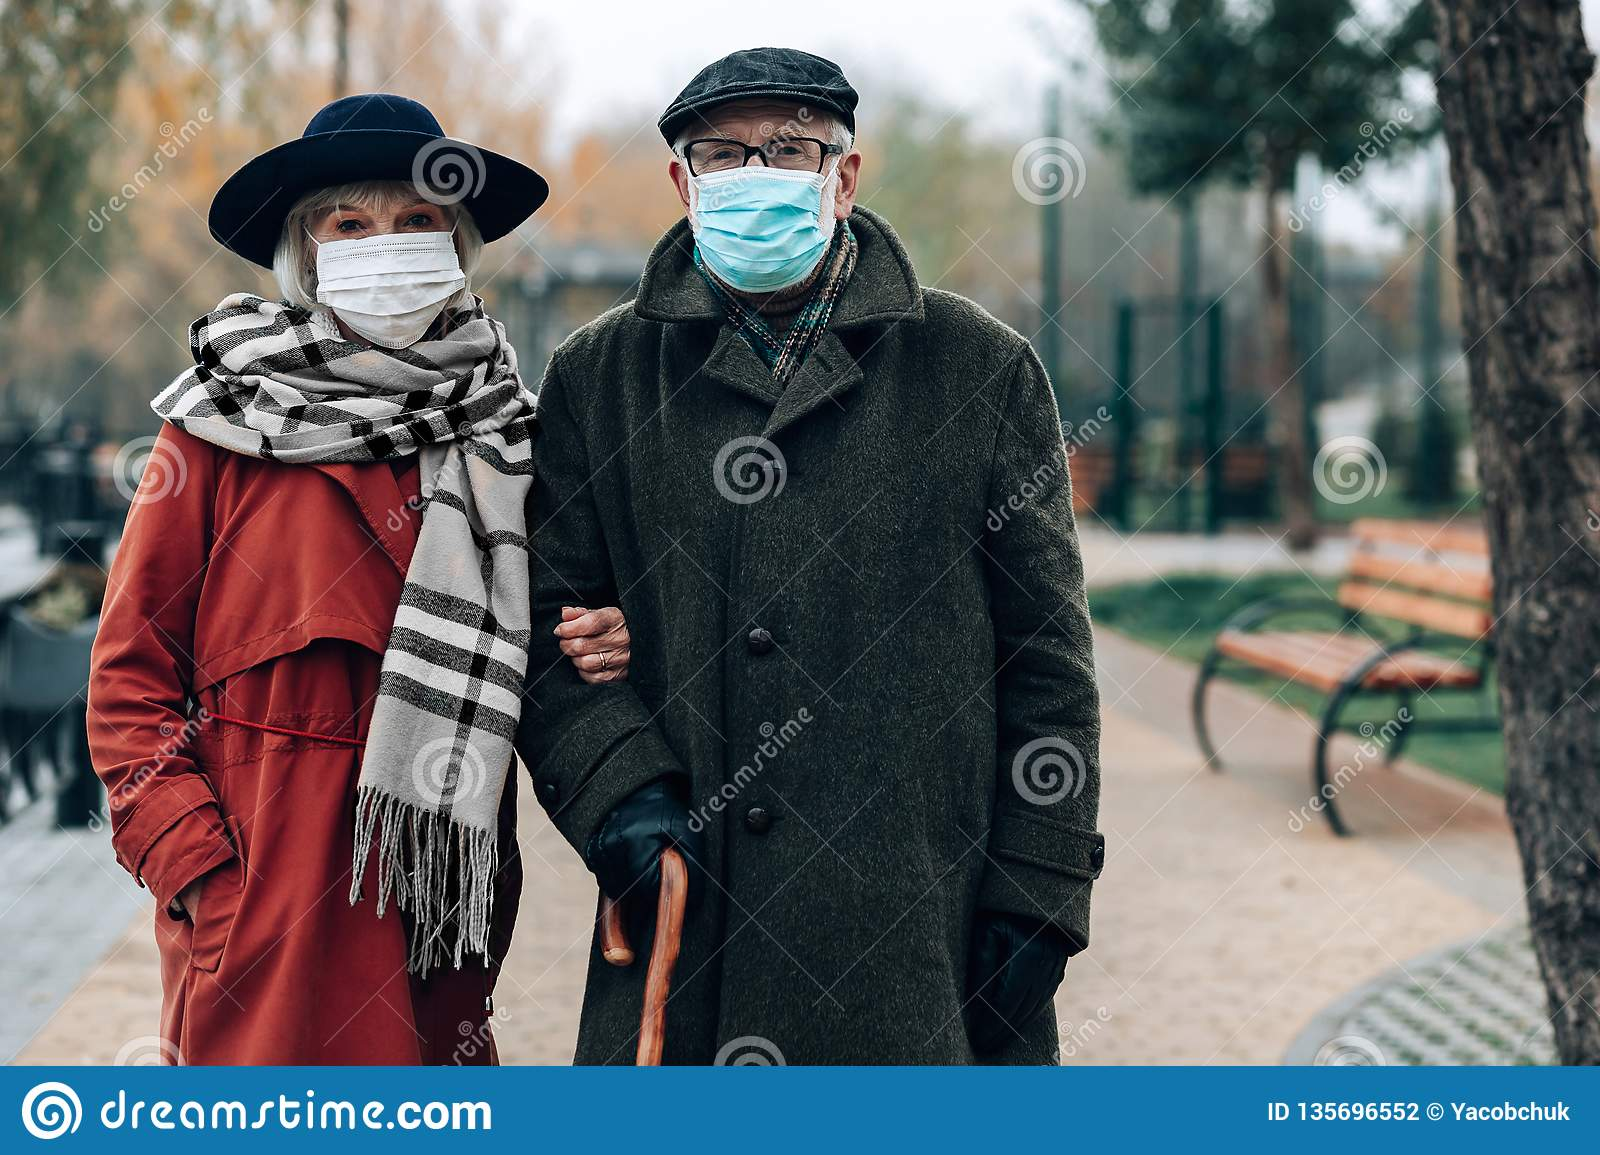surgical: (674, 166, 843, 301), (311, 230, 485, 354)
